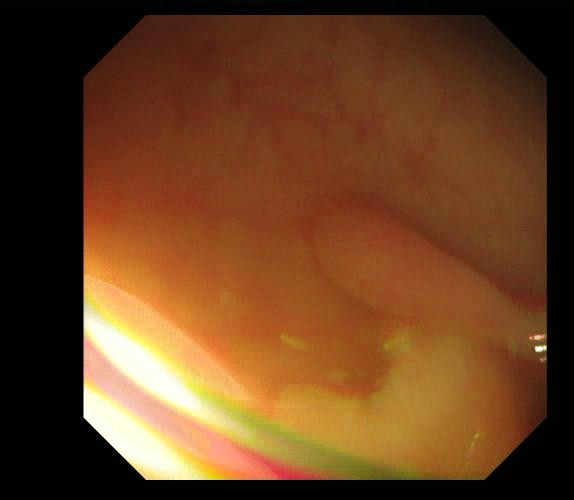polyp: (306, 203, 545, 383)
